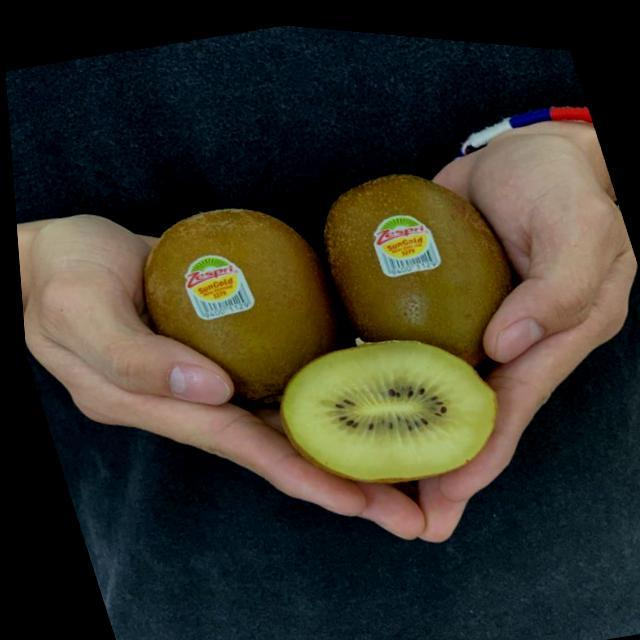kiwi: (114, 174, 372, 446), (290, 137, 545, 404)
